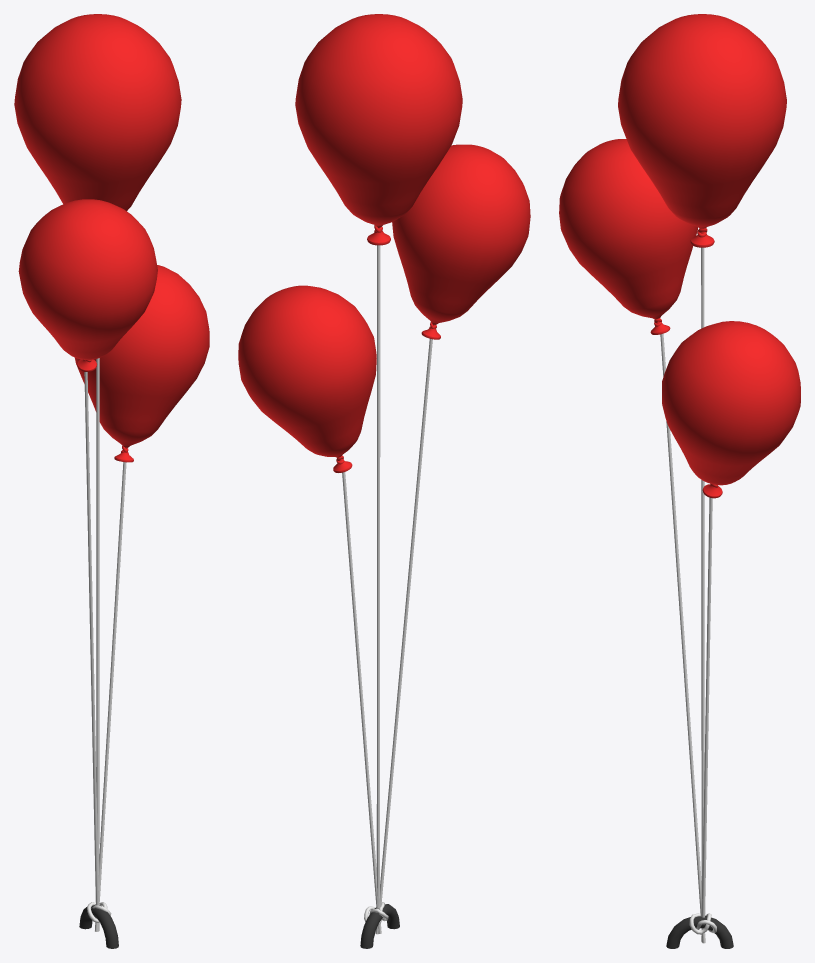
Rendered from Balloons.FBX.
The picture shows the model from 3 angles, left to right: view 1: azimuth 30°, elevation 25°; view 2: azimuth 150°, elevation 25°; view 3: azimuth 270°, elevation 25°; orthographic projection.
Parts seen in each view (by area): view 1: Torus Knot001; view 2: Torus Knot001; view 3: Torus Knot001.
Boxes of the visible parts, x1=… form: Torus Knot001: x1=14, y1=14, x2=209, y2=948; Torus Knot001: x1=238, y1=14, x2=530, y2=948; Torus Knot001: x1=559, y1=14, x2=800, y2=948.
Size of the model in its own units: 29.58 by 116 by 27.53.
